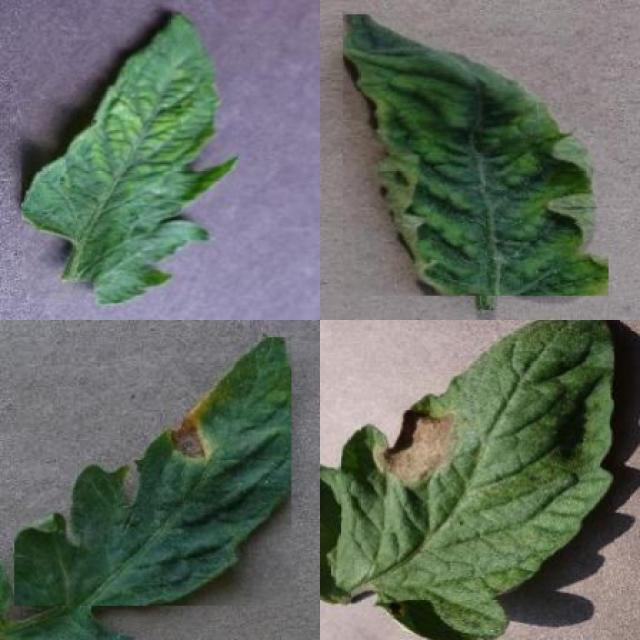Early Blight: (15, 337, 291, 606)
Late Blight: (320, 320, 614, 640)
Mosaic Virus: (22, 12, 239, 305)
Yellow Leaf Curl Virus: (342, 14, 609, 296)
